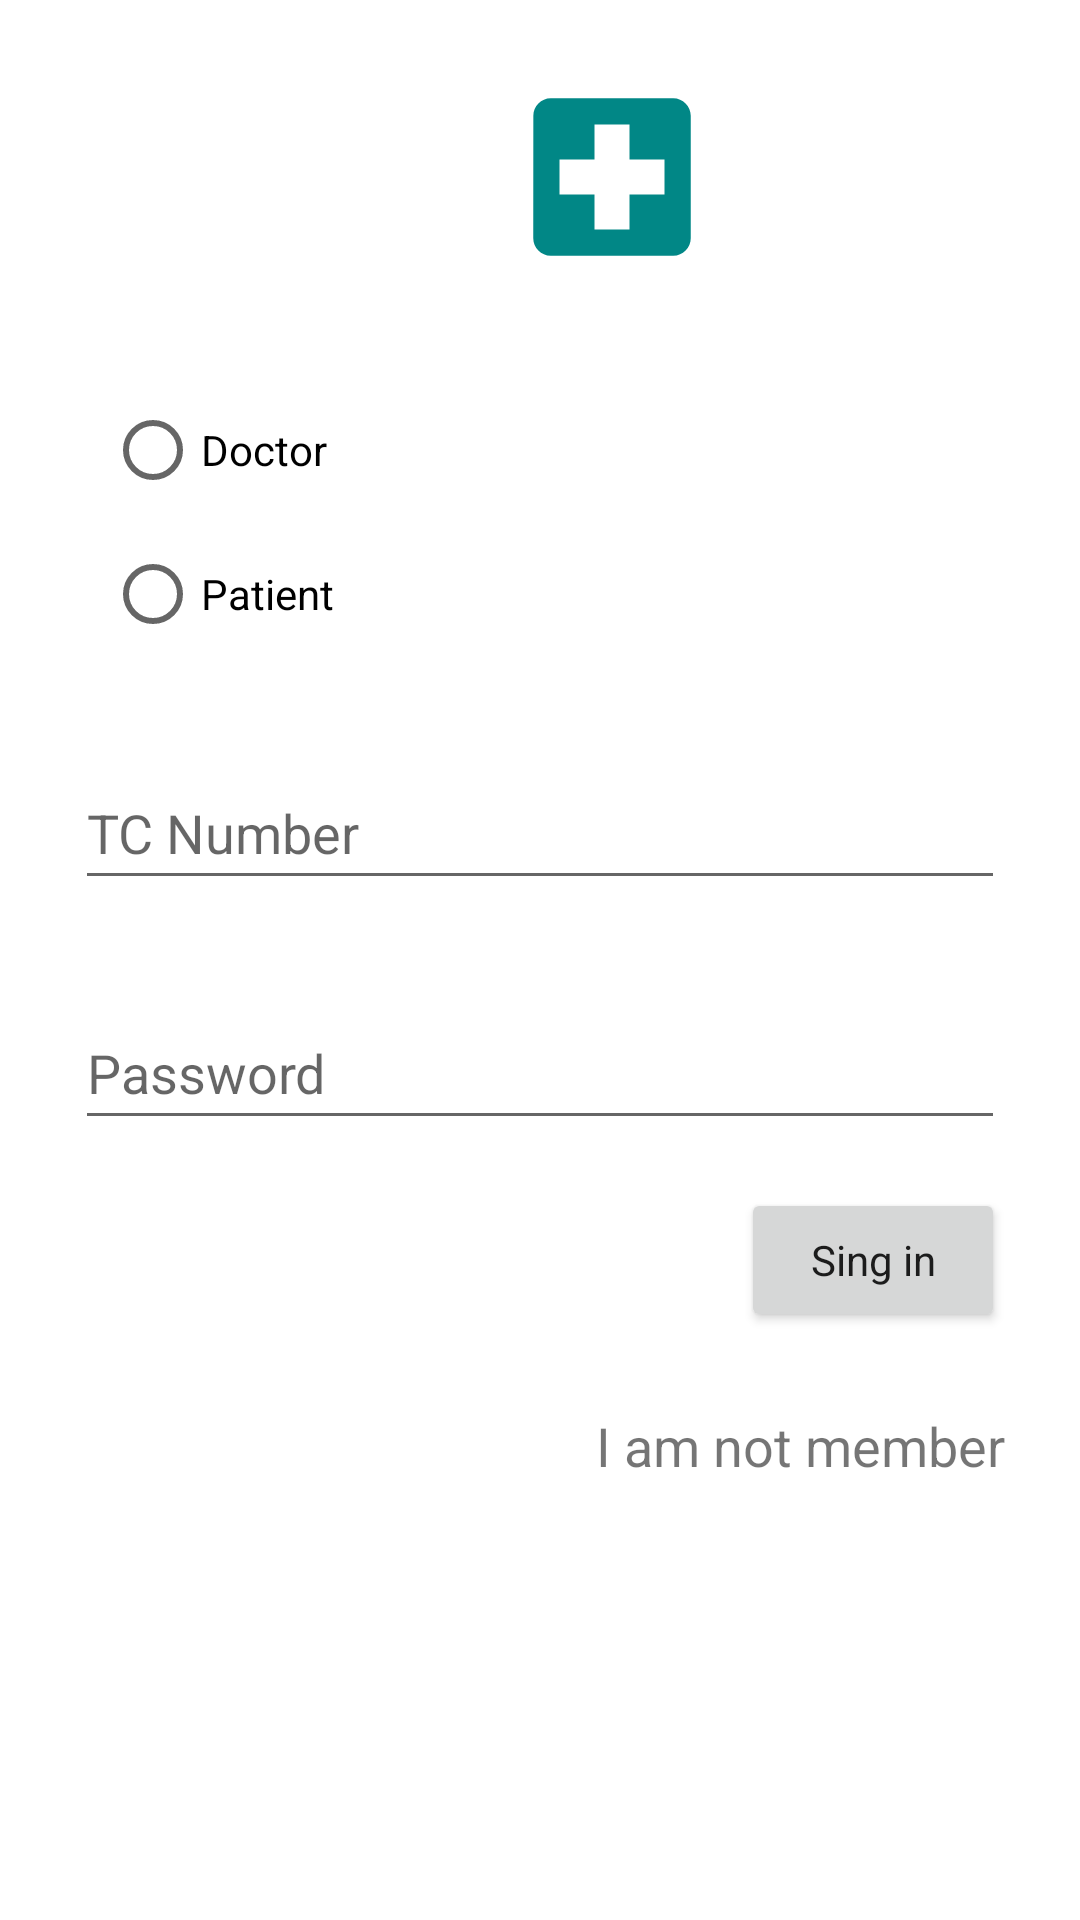

Named icons in this screenshot (1080w x 1920h) and their centers, (x=x, y=y):
local hospital: (x=612, y=177)
